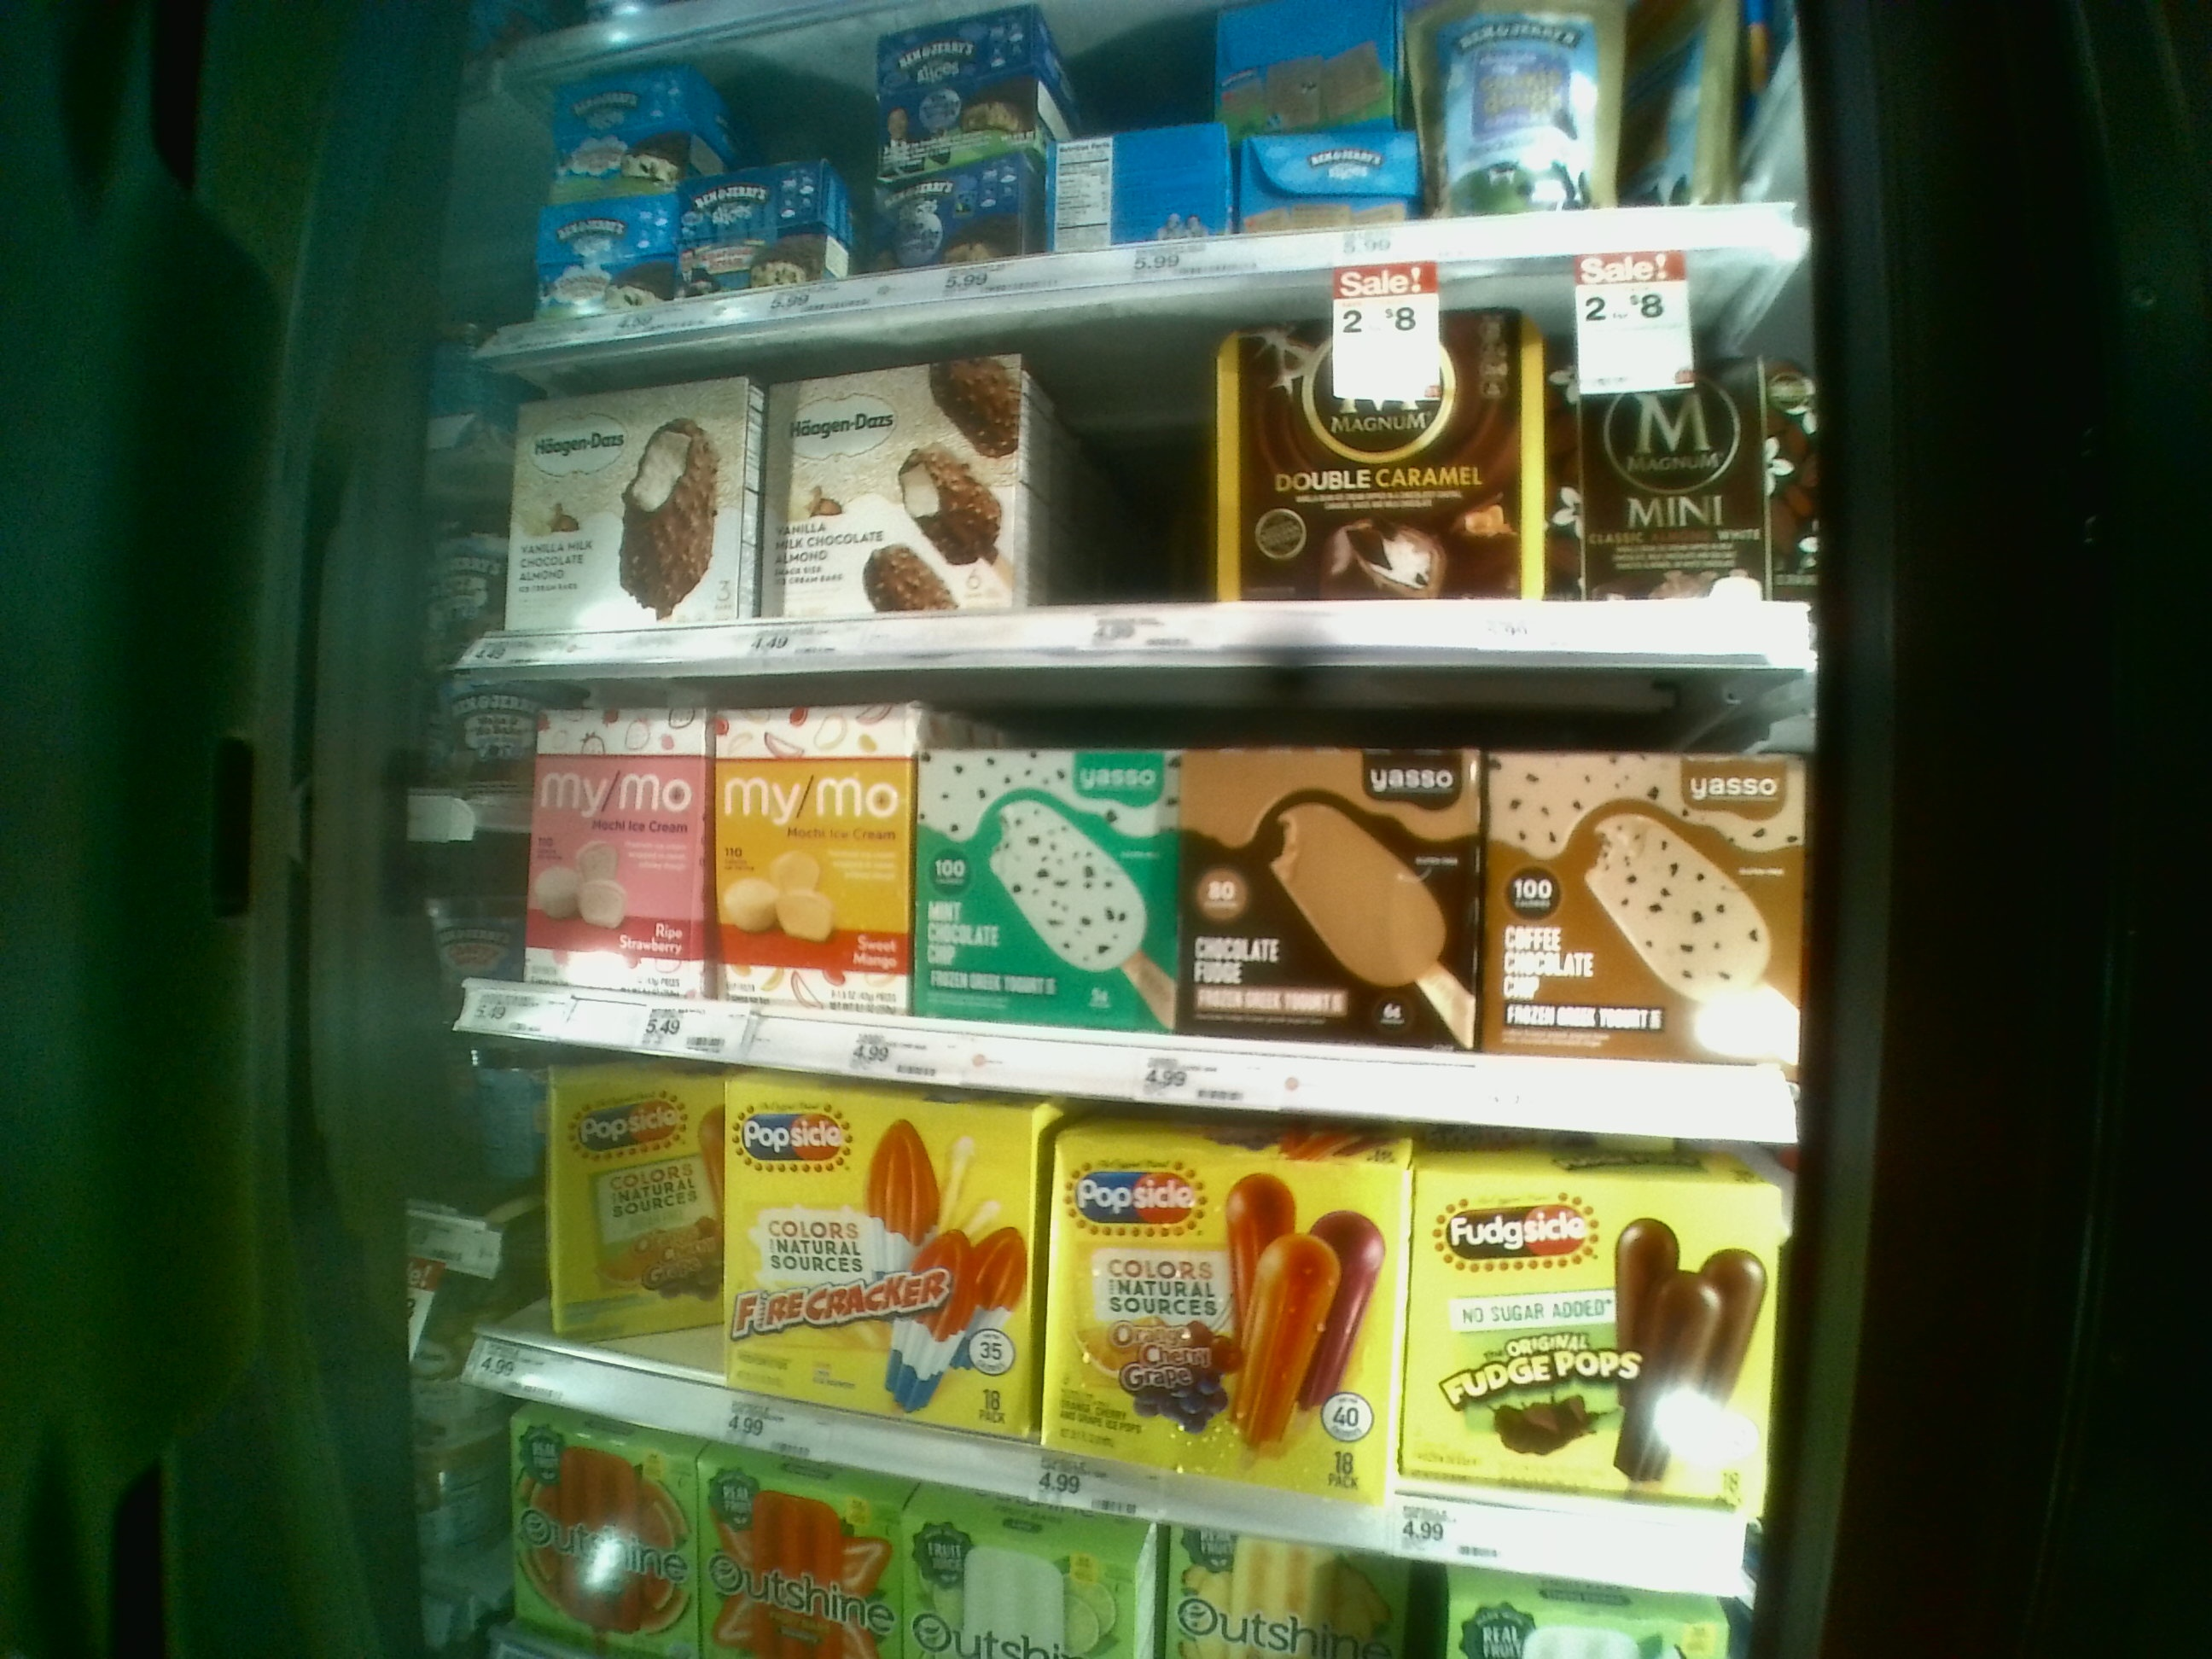shelf: (455, 1035, 1777, 1598), (444, 666, 1801, 1145), (479, 254, 1817, 666)
